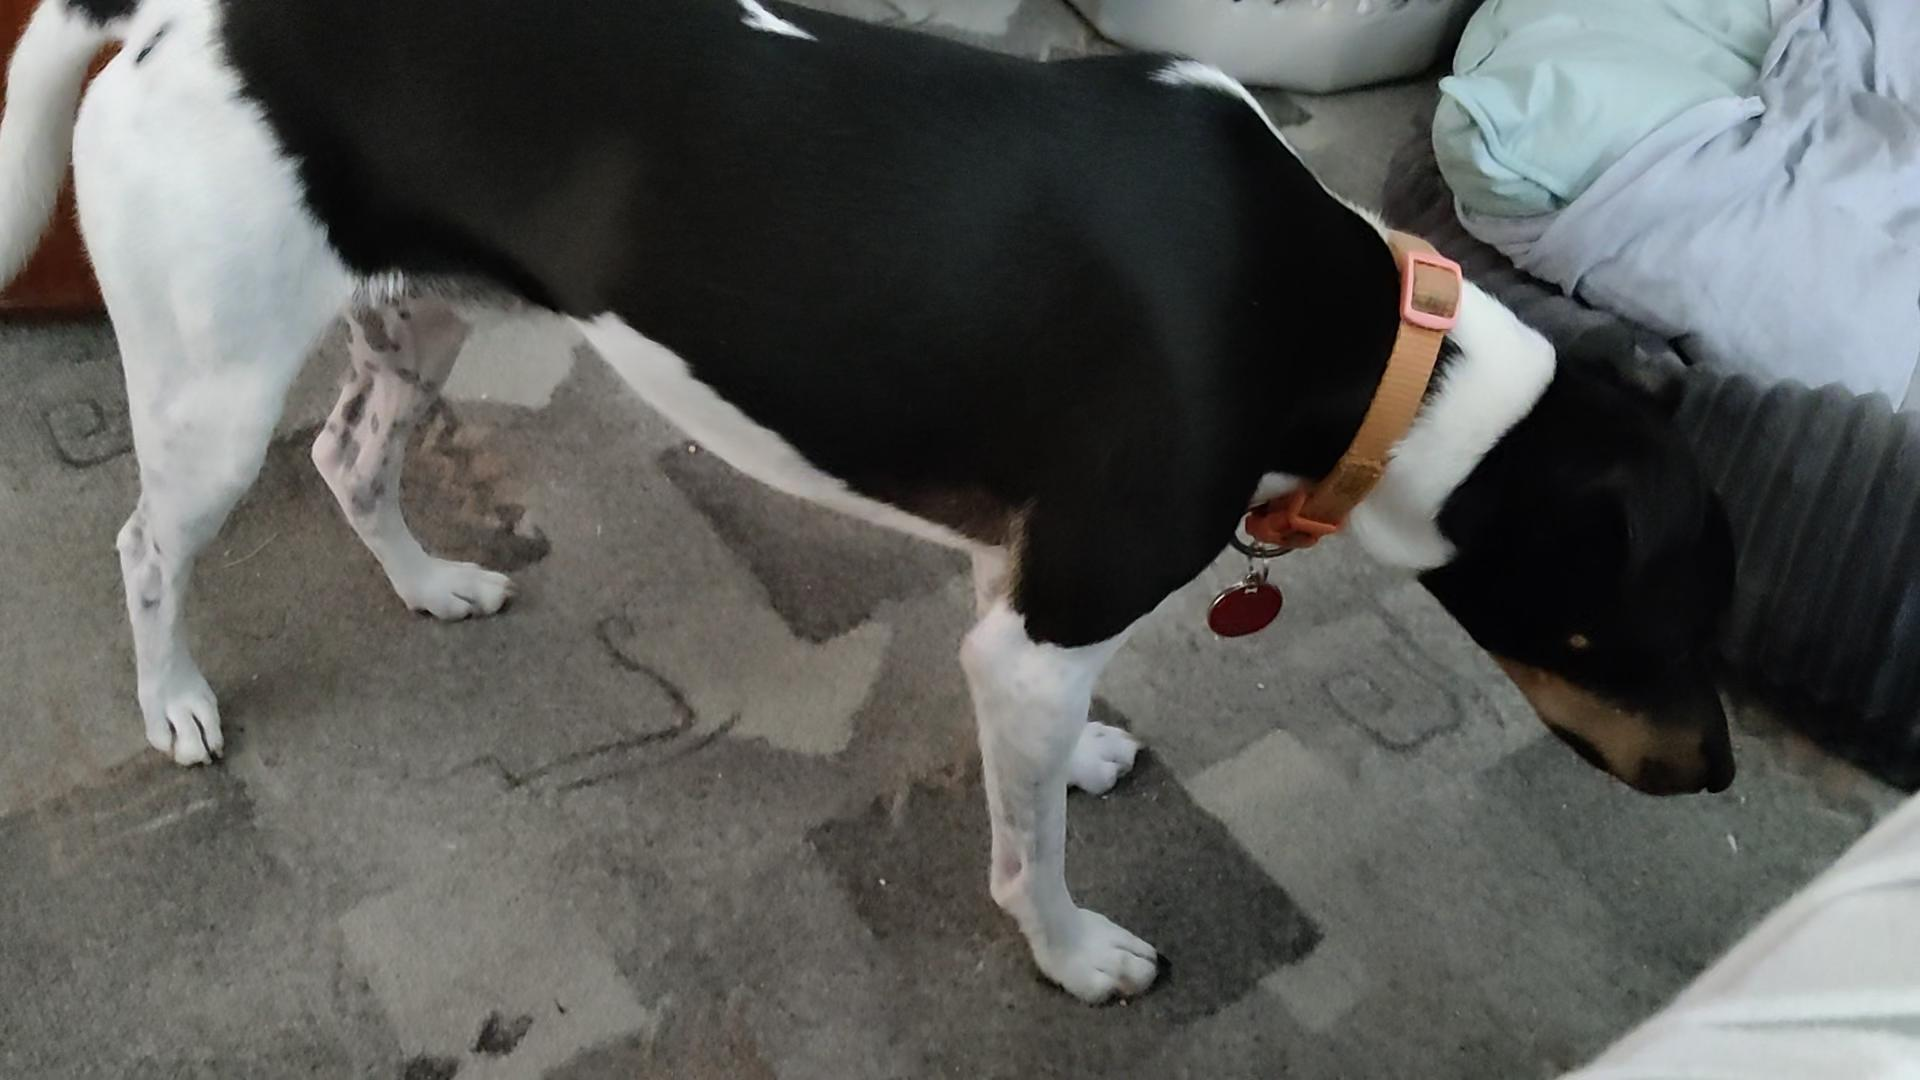Dog: (0, 0, 1754, 1017)
